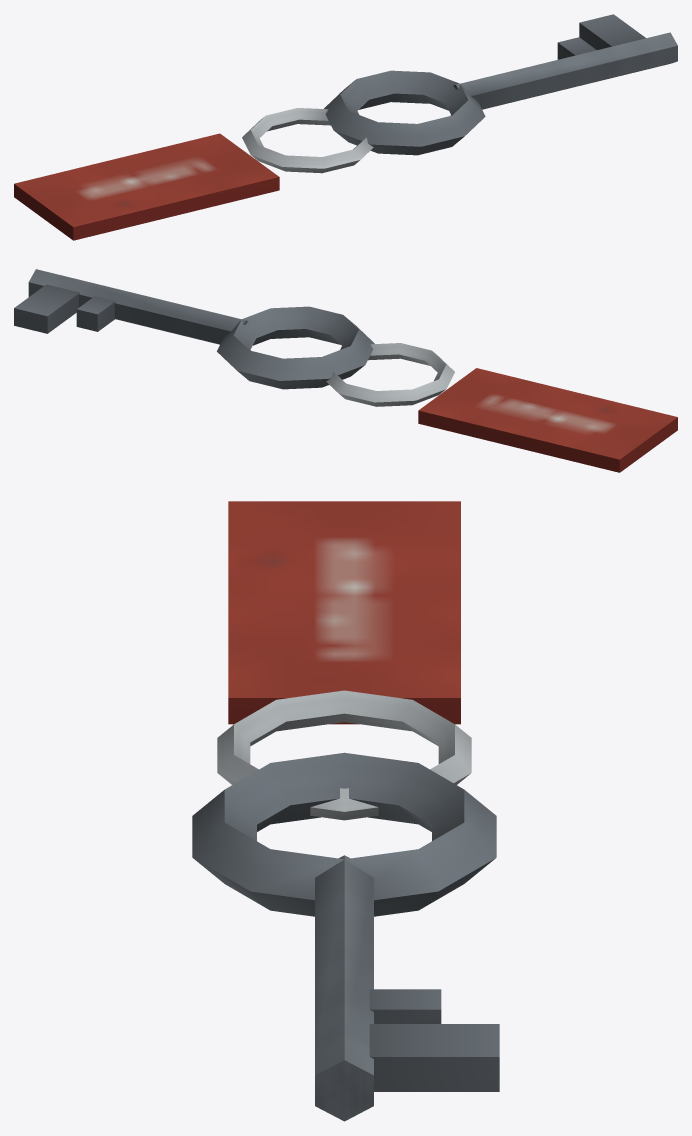
The model's file is armoury_key.glb.
3 views of the same model, one above another, from view 1: azimuth 30°, elevation 25°; view 2: azimuth 150°, elevation 25°; view 3: azimuth 270°, elevation 25° (orthographic). The views are drawn at different scales.
Visible parts, largest first — view 1: armoury_key; view 2: armoury_key; view 3: armoury_key.
Boxes of the visible parts, x1=… form: armoury_key: x1=14, y1=14, x2=677, y2=240; armoury_key: x1=14, y1=269, x2=677, y2=472; armoury_key: x1=192, y1=501, x2=499, y2=1121.
Bounding box in the file's own units: 0.146 × 0.0075 × 0.0317.
1 material, 1 textured.
